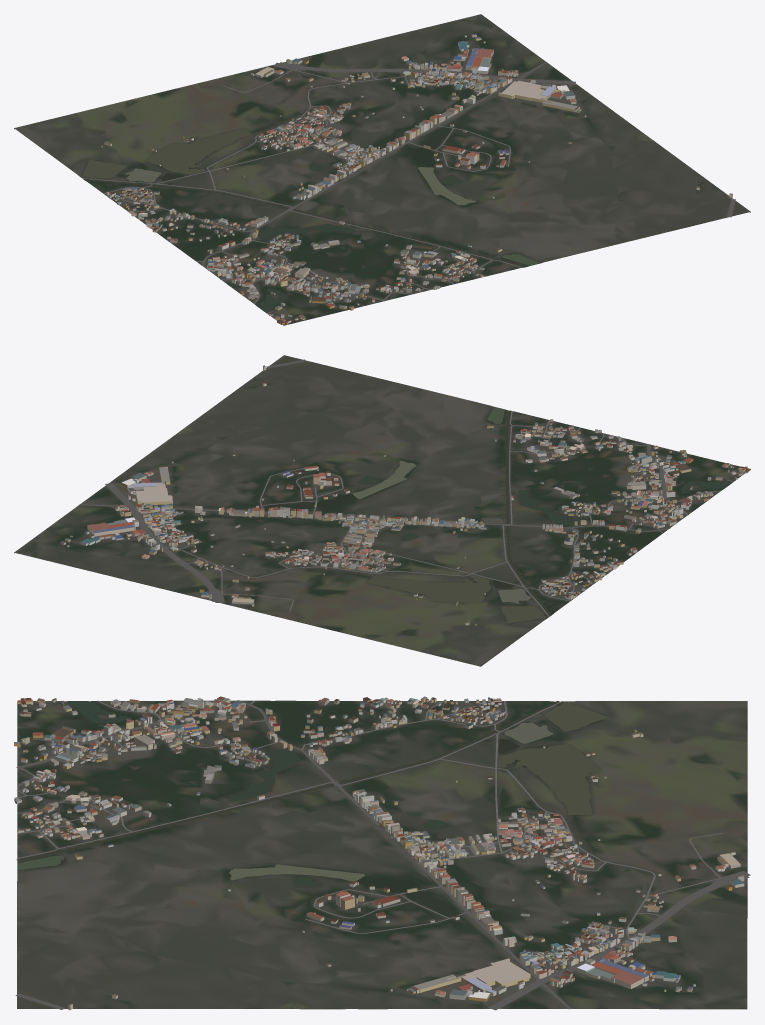
3 renders of one model, top to bottom at view 1: azimuth 30°, elevation 25°; view 2: azimuth 150°, elevation 25°; view 3: azimuth 270°, elevation 25°, orthographic. The views are drawn at different scales.
Visible parts, largest first — view 1: ground, buildings, water, roads; view 2: ground, buildings, water, roads; view 3: ground, buildings, water, roads.
Boxes of the visible parts, x1,y1,x2,y2 form: ground: [14, 14, 750, 325]; buildings: [100, 33, 732, 324]; water: [81, 128, 538, 311]; roads: [82, 61, 735, 313]; ground: [14, 355, 750, 666]; buildings: [60, 365, 750, 625]; water: [265, 407, 731, 622]; roads: [79, 359, 733, 616]; ground: [17, 700, 747, 1009]; buildings: [14, 696, 744, 1010]; water: [16, 701, 606, 916]; roads: [15, 700, 750, 1010].
Bounding box in the file's own units: 1412 × 26.31 × 1415.
